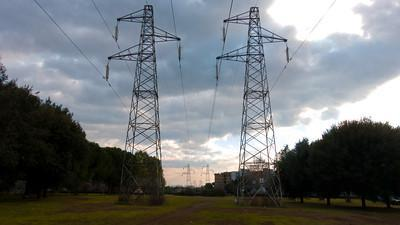power_tower: (99, 1, 181, 199), (216, 3, 294, 208)
